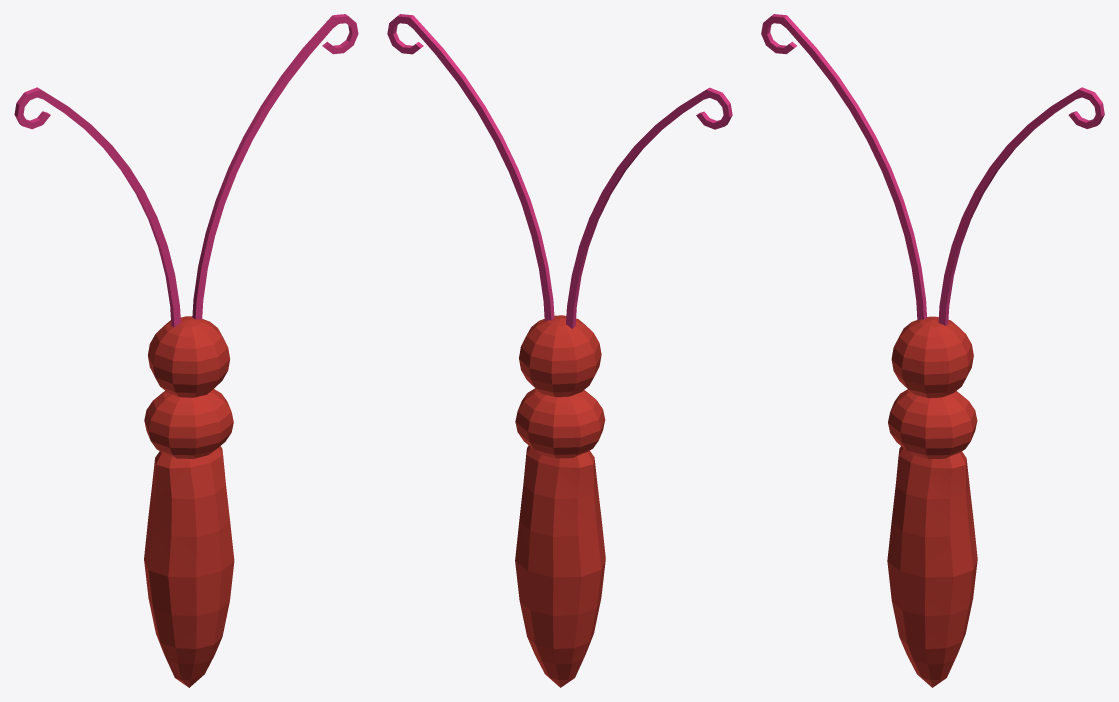
File: FlowtObjBody.fbx
3 views of the same model, side by side, from view 1: azimuth 30°, elevation 25°; view 2: azimuth 150°, elevation 25°; view 3: azimuth 330°, elevation 25° (orthographic).
Parts seen in each view (by area): view 1: polySurface616; view 2: polySurface616; view 3: polySurface616.
Part boxes in pixels (x1,y1,x2,y2): polySurface616: [14, 14, 358, 687]; polySurface616: [387, 14, 732, 687]; polySurface616: [761, 14, 1104, 687].
Size of the model in its own units: 0.5325 by 0.9471 by 0.1071.
2 materials, 2 textured.
